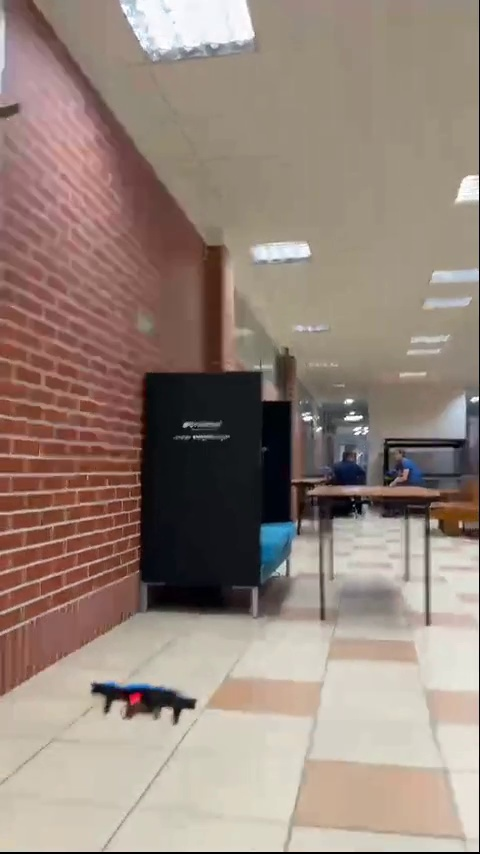drone: (91, 680, 191, 722)
no vest: (327, 443, 365, 493), (377, 448, 427, 482)
